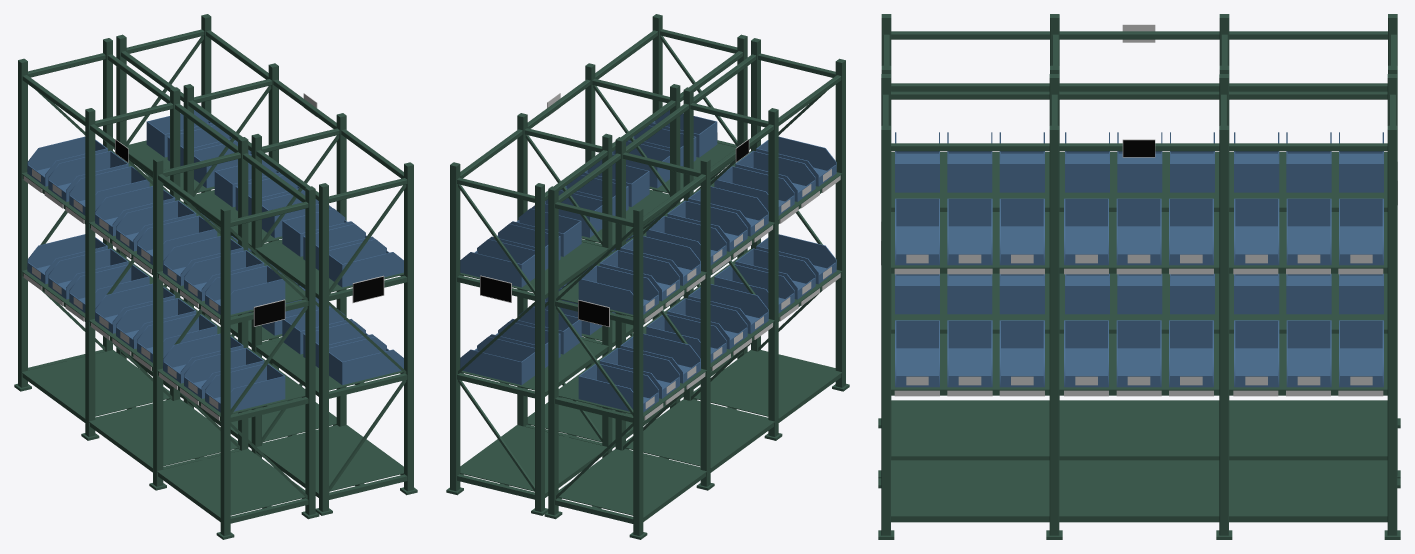
File: StorageRack.fbx
3 renders of one model, left to right at view 1: azimuth 30°, elevation 25°; view 2: azimuth 150°, elevation 25°; view 3: azimuth 270°, elevation 25°, orthographic. The views are drawn at different scales.
Visible parts, largest first — view 1: StorageRack, Upper_Shields; view 2: StorageRack, Upper_Shields; view 3: StorageRack, Side_Shields.
Boxes of the visible parts, box(x1,y1,x2,y2) form: StorageRack: box(14, 14, 417, 539); Upper_Shields: box(253, 275, 384, 326); StorageRack: box(446, 14, 849, 539); Upper_Shields: box(480, 132, 717, 327); StorageRack: box(878, 14, 1400, 539); Side_Shields: box(1122, 24, 1155, 157).
Size of the model in its own units: 125 by 200 by 232.
